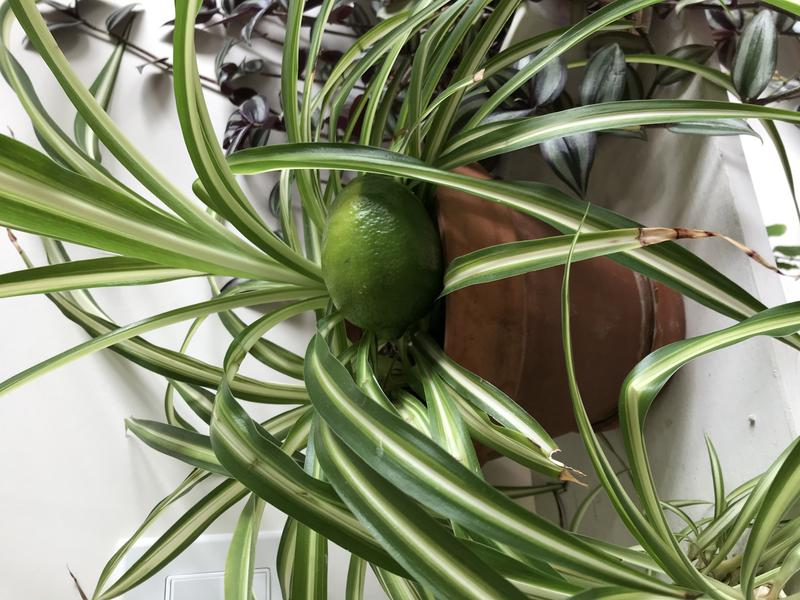lime: (314, 169, 445, 354)
